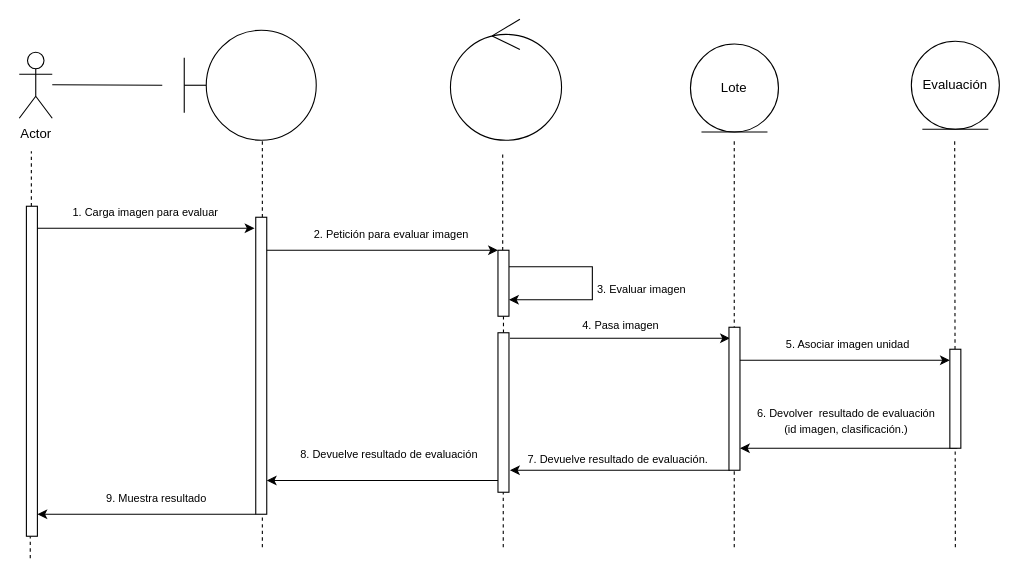
This 1019x579 diagram has some shape labels left out. The shapes that lost their labels are listed below. From the top down, each one's centre as x and y in pixels, then its label:
At (249,84): "PantallaEvaluar Calidad".
At (505,79): "ControlEvaluar Calidad".
